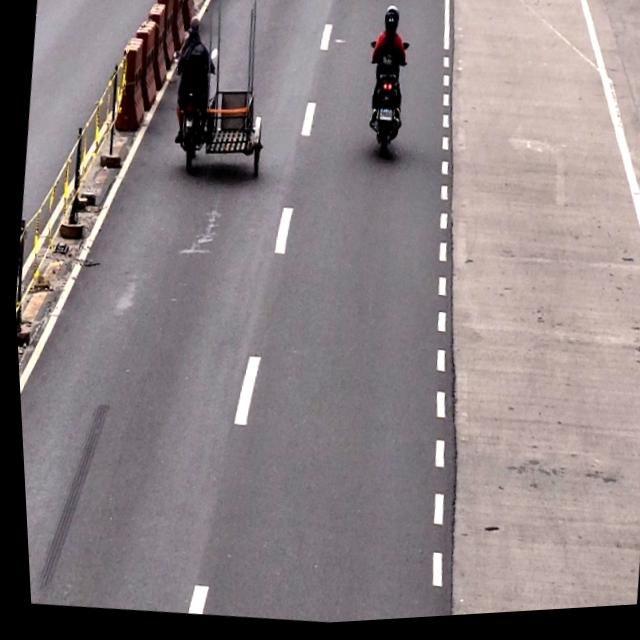License-Plate: (374, 110, 393, 127)
Motorcycle: (354, 3, 415, 164)
Tricycle: (159, 5, 279, 187)
